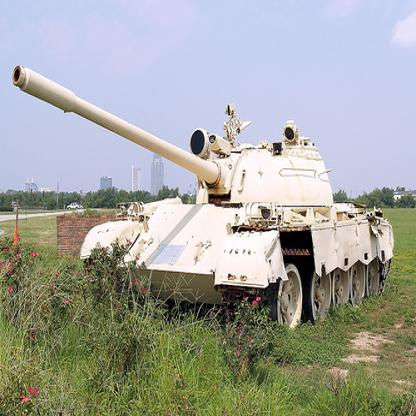Tank: (12, 64, 397, 331)
